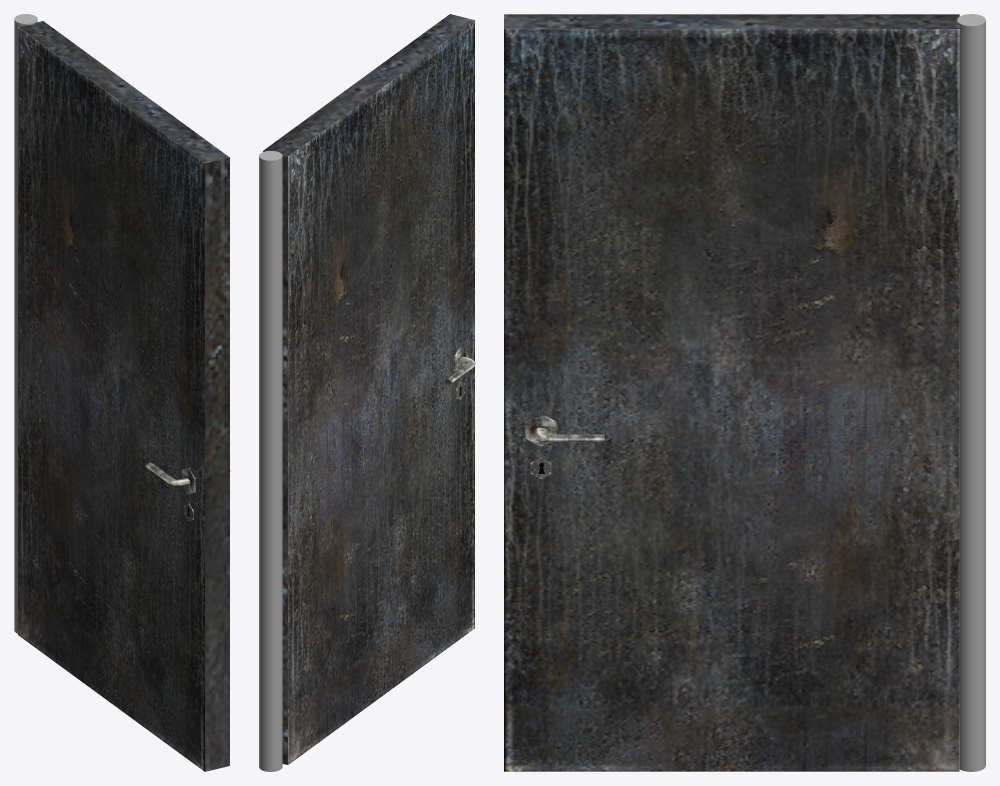
File: door_metal_hinge04.dae
3 views of the same model, side by side, from view 1: azimuth 30°, elevation 25°; view 2: azimuth 150°, elevation 25°; view 3: azimuth 270°, elevation 25° (orthographic). The views are drawn at different scales.
Visible parts, largest first — view 1: doormetal04, _joint_hinge_doormetal04_null__90_90_nocollide_joint1; view 2: doormetal04, _joint_hinge_doormetal04_null__90_90_nocollide_joint1; view 3: doormetal04, _joint_hinge_doormetal04_null__90_90_nocollide_joint1.
Boxes of the visible parts, <box> form: doormetal04: <box>18,21,230,771</box>; _joint_hinge_doormetal04_null__90_90_nocollide_joint1: <box>14,14,37,633</box>; doormetal04: <box>263,14,475,764</box>; _joint_hinge_doormetal04_null__90_90_nocollide_joint1: <box>259,151,282,771</box>; doormetal04: <box>504,14,959,771</box>; _joint_hinge_doormetal04_null__90_90_nocollide_joint1: <box>957,14,985,771</box>.
Size of what is drawn, in the model's own units: 0.2167 by 2.06 by 1.21.
